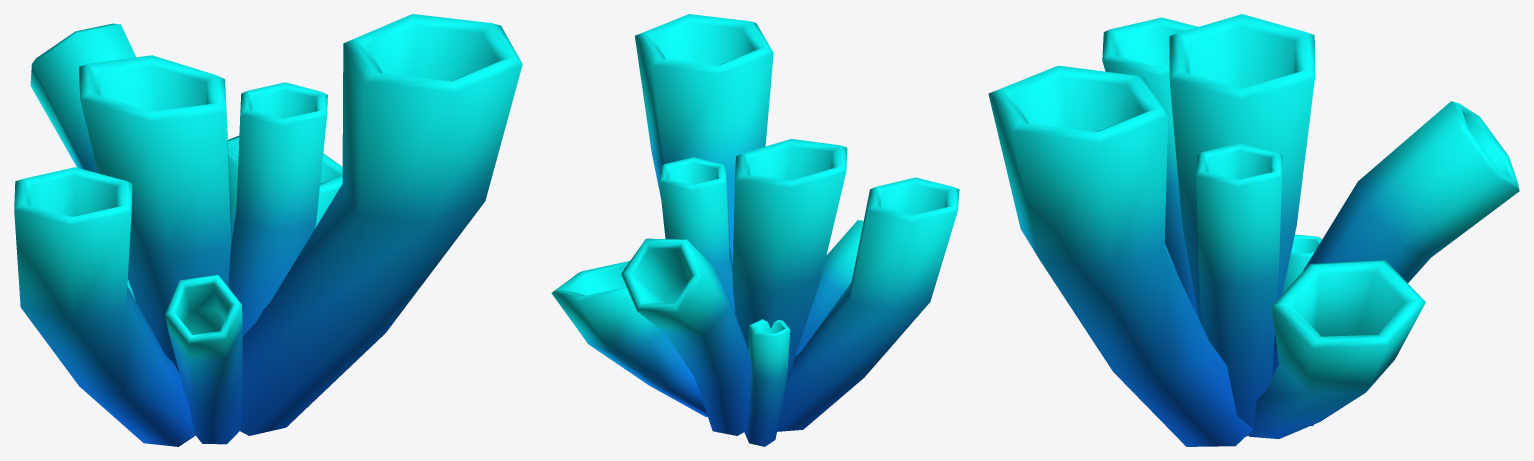
File: Plant_4.fbx
3 views of the same model, side by side, from view 1: azimuth 30°, elevation 25°; view 2: azimuth 150°, elevation 25°; view 3: azimuth 270°, elevation 25° (orthographic). The views are drawn at different scales.
Parts seen in each view (by area): view 1: Cylinder.002; view 2: Cylinder.002; view 3: Cylinder.002.
Boxes of the visible parts, bbox=[...] form: Cylinder.002: bbox=[14, 14, 522, 446]; Cylinder.002: bbox=[551, 14, 959, 446]; Cylinder.002: bbox=[988, 14, 1519, 446].
Bounding box in the file's own units: 8.48 × 7.27 × 8.69.
1 material, 1 textured.
